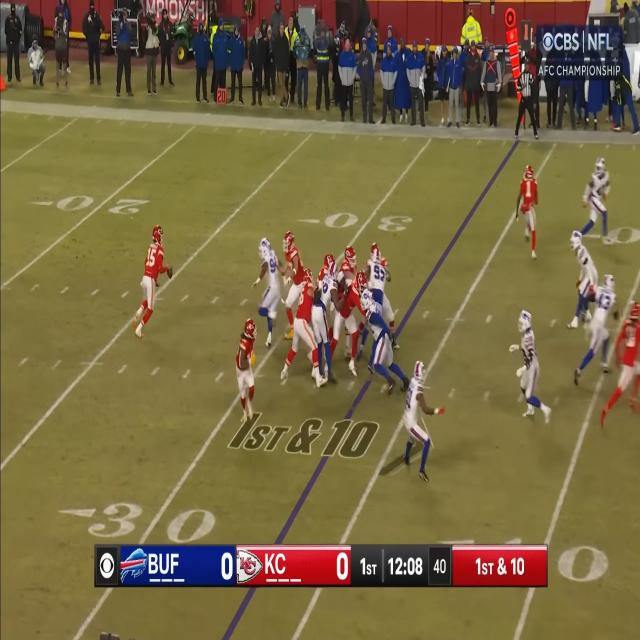Ball: (167, 263, 174, 280)
